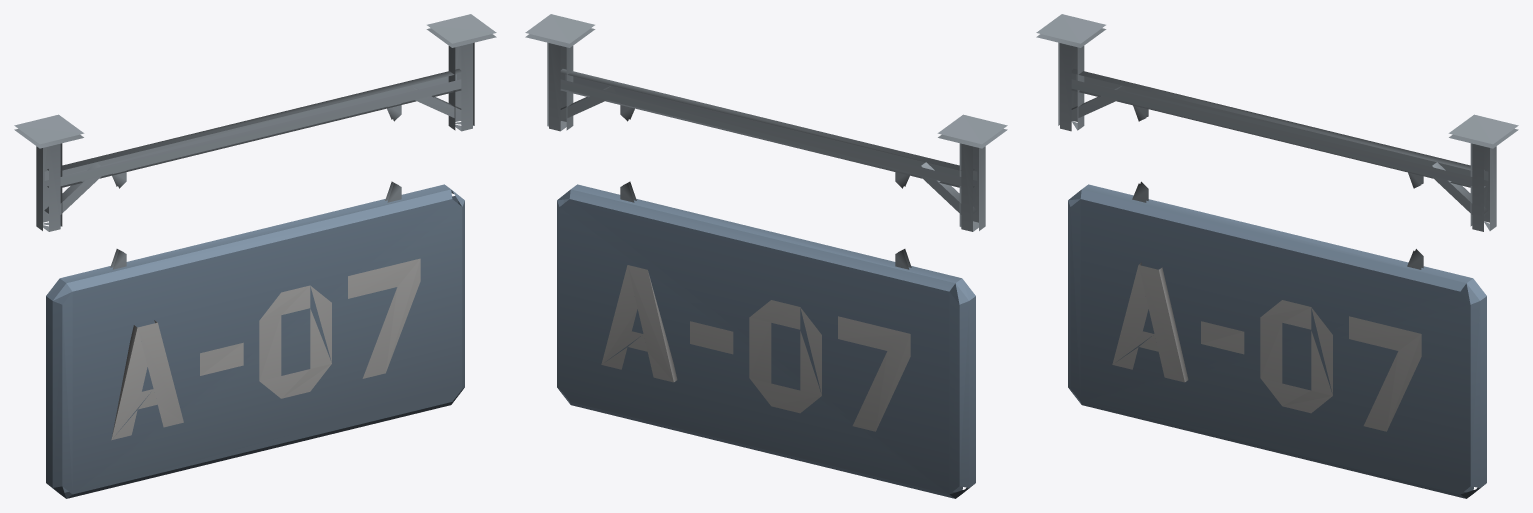
The model's file is sign.lod.glb.
3 views of the same model, side by side, from view 1: azimuth 30°, elevation 25°; view 2: azimuth 150°, elevation 25°; view 3: azimuth 330°, elevation 25° (orthographic).
Visible parts, largest first — view 1: sign.001; view 2: sign.001; view 3: sign.001.
Boxes of the visible parts, x1,y1,x2,y2 form: sign.001: (14,14,496,498); sign.001: (525,14,1007,498); sign.001: (1036,14,1518,498).
Size of the model in its own units: 1.33 by 1.03 by 0.13.
